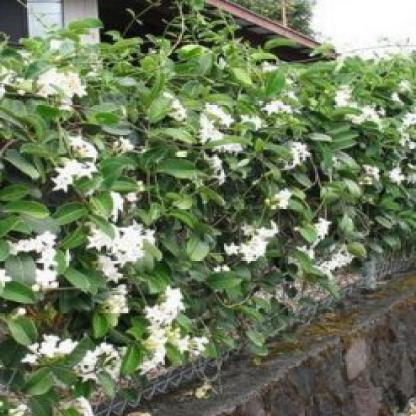Melati: (143, 282, 230, 395), (84, 206, 153, 303), (183, 97, 247, 184), (220, 215, 294, 271), (323, 82, 395, 136), (50, 132, 117, 188)
